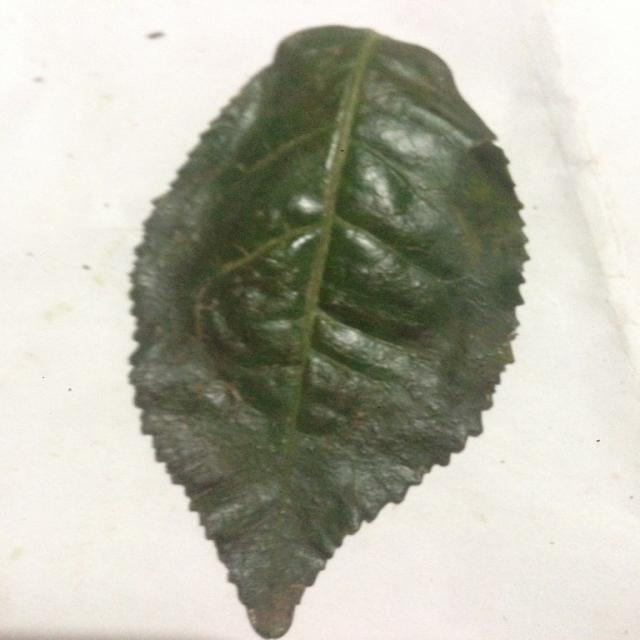Red Leaf Spot: (114, 13, 564, 640)
